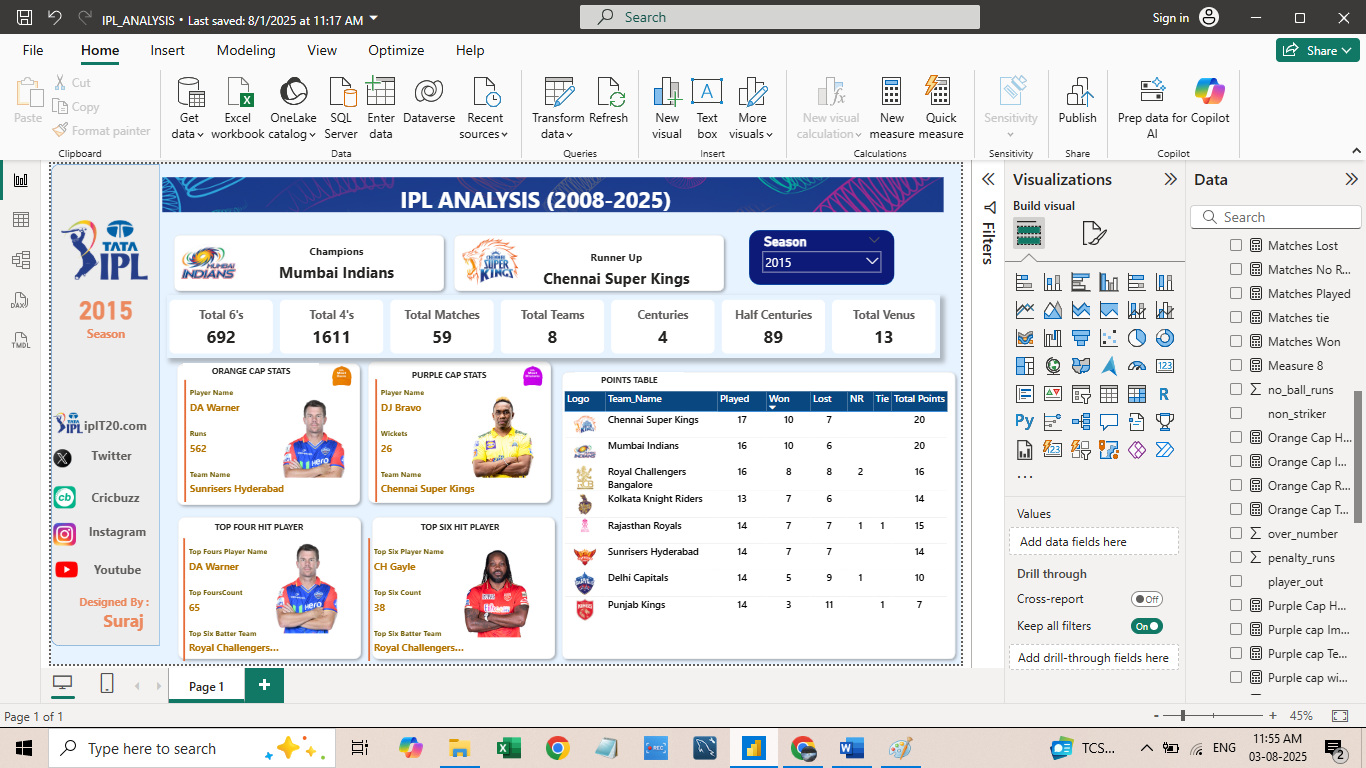

The page's visual inventory and layout, read from the dashboard file:
{"tool":"powerbi","page":{"name":"Page 1","canvas":[2000,1100],"ordinal":0},"visuals":[{"type":"shape","box":[1535.4,144.4,320.2,120.7],"z":0},{"type":"shape","box":[1112.9,446.2,887.1,653.5],"z":1000},{"type":"shape","box":[266.2,426.8,424.6,334.4],"z":2000},{"type":"shape","box":[686.4,422.4,424.6,334.4],"z":3000},{"type":"shape","box":[875.6,145.2,616,145.2],"z":4000},{"type":"shape","box":[259.6,145.2,616,145.2],"z":5000},{"type":"image","box":[239.8,22,1729.2,90.2],"z":6000},{"type":"shape","box":[0,0,238.8,1060.4],"z":7000},{"type":"textbox","box":[741.4,39.6,651.2,88],"z":8000},{"type":"slicer","fields":{"Values":["ipl_matches_data.season"]},"box":[1556.4,147,280.8,118.1],"z":9000},{"type":"cardVisual","fields":{"Data":["ipl_matches_data.Season Winner"]},"box":[380.6,158.4,495,118.8],"z":10000},{"type":"cardVisual","fields":{"Data":["ipl_matches_data.Season Winner Logo"]},"box":[259.6,127.6,160.6,154],"z":11000},{"type":"cardVisual","fields":{"Data":["ipl_matches_data.Runner Up"]},"box":[996.6,171.6,495,118.8],"z":12000},{"type":"cardVisual","fields":{"Data":["ball_by_ball_data.Runnerup Logo"]},"box":[875.6,127.6,158.4,145.2],"z":13000},{"type":"cardVisual","fields":{"Data":["ball_by_ball_data.Total 6's","ball_by_ball_data.Total 4's","ball_by_ball_data.Total Matches","ball_by_ball_data.Total Teams","ball_by_ball_data.Centuries","ball_by_ball_data.Half Centuries","ball_by_ball_data.Total Venus"]},"box":[254.6,288.7,1700.8,139.1],"z":14000},{"type":"cardVisual","fields":{"Data":["ball_by_ball_data.Orange Cap Holder","ball_by_ball_data.Orange Cap Runs","ball_by_ball_data.Orange Cap Team Name"]},"box":[288.2,468.6,341,281.6],"z":15000},{"type":"textbox","box":[290.4,437.8,299.2,37.4],"z":16000},{"type":"cardVisual","fields":{"Data":["ball_by_ball_data.Orange Cap Image"]},"box":[457.6,495,250.8,200.2],"z":17000},{"type":"image","box":[589.6,437.8,101.2,57.2],"z":18000},{"type":"shape","box":[268.4,765.6,424.6,334.4],"z":19000},{"type":"shape","box":[695.2,765.6,424.6,334.4],"z":20000},{"type":"cardVisual","fields":{"Data":["ball_by_ball_data.Purple Cap Holder","ball_by_ball_data.Purple cap wicket","ball_by_ball_data.Purple cap Team"]},"box":[708.4,468.6,341,281.6],"z":21000},{"type":"textbox","box":[726,446.6,299.2,37.4],"z":22000},{"type":"cardVisual","fields":{"Data":["ball_by_ball_data.Purple cap Image"]},"box":[871.2,484,250.8,211.2],"z":23000},{"type":"image","box":[1009.8,437.8,101.2,57.2],"z":24000},{"type":"cardVisual","fields":{"Data":["ball_by_ball_data.Top Fours Player Name","ball_by_ball_data.Top FoursCount","ball_by_ball_data.Top Fours Batter Team"]},"box":[286,818.4,244.2,281.6],"z":25000},{"type":"textbox","box":[308,781,299.2,37.4],"z":26000},{"type":"cardVisual","fields":{"Data":["ball_by_ball_data.Top Fours Player Image"]},"box":[442.2,809.6,250.8,246.4],"z":27000},{"type":"cardVisual","fields":{"Data":["ball_by_ball_data.Top Six Player Name","ball_by_ball_data.Top Six Count","ball_by_ball_data.Top Six Batter Team"]},"box":[693,818.4,244.2,281.6],"z":28000},{"type":"textbox","box":[750.2,781,299.2,37.4],"z":29000},{"type":"cardVisual","fields":{"Data":["ball_by_ball_data.Top Six Player Image"]},"box":[860.2,818.4,250.8,246.4],"z":30000},{"type":"tableEx","fields":{"Values":["teams_data.image_url","teams_data.team_name","ball_by_ball_data.Matches Played","ball_by_ball_data.Matches Won","ball_by_ball_data.Matches Lost","ball_by_ball_data.Matches No Result","ball_by_ball_data.Matches tie","ball_by_ball_data.Total Points"]},"box":[1123.4,496.1,876.6,593.2],"z":31000},{"type":"textbox","box":[1152.2,456.7,238.8,39.4],"z":32000},{"type":"image","box":[0,519.7,75,100],"z":33000},{"type":"card","fields":{"Values":["ball_by_ball_data.Season"]},"box":[47.2,265.1,149.6,136.5],"z":34000},{"type":"actionButton","box":[47.2,530.2,191.6,89.2],"z":35000},{"type":"image","box":[18.4,39.4,200,299.2],"z":36000},{"type":"image","box":[0,608.9,50,76.1],"z":37000},{"type":"actionButton","box":[36.7,595.8,191.6,89.2],"z":38000},{"type":"image","box":[0,695.5,60,75],"z":39000},{"type":"actionButton","box":[47.2,687.7,191.6,89.2],"z":40000},{"type":"image","box":[0,776.9,60.4,76.1],"z":41000},{"type":"actionButton","box":[49.9,763.8,191.6,89.2],"z":42000},{"type":"image","box":[5.2,853,60.4,76.1],"z":43000},{"type":"actionButton","box":[49.9,847.8,191.6,89.2],"z":44000},{"type":"textbox","box":[57.7,942.3,168,126],"z":45000}]}

Visuals, with their boxes on the page's 2000x1100 design canvas (x1, y1, x2, y2). These are canvas units, not pixel positions in the 1366x768 screenshot, which may show the page scaled, cropped or inside an application window:
shape: crop(1535, 144, 1856, 265)
shape: crop(1113, 446, 2000, 1100)
shape: crop(266, 427, 691, 761)
shape: crop(686, 422, 1111, 757)
shape: crop(876, 145, 1492, 290)
shape: crop(260, 145, 876, 290)
image: crop(240, 22, 1969, 112)
shape: crop(0, 0, 239, 1060)
textbox: crop(741, 40, 1393, 128)
slicer - ipl_matches_data.season: crop(1556, 147, 1837, 265)
cardVisual - ipl_matches_data.Season Winner: crop(381, 158, 876, 277)
cardVisual - ipl_matches_data.Season Winner Logo: crop(260, 128, 420, 282)
cardVisual - ipl_matches_data.Runner Up: crop(997, 172, 1492, 290)
cardVisual - ball_by_ball_data.Runnerup Logo: crop(876, 128, 1034, 273)
cardVisual - ball_by_ball_data.Total 6's x ball_by_ball_data.Total 4's: crop(255, 289, 1955, 428)
cardVisual - ball_by_ball_data.Orange Cap Holder x ball_by_ball_data.Orange Cap Runs: crop(288, 469, 629, 750)
textbox: crop(290, 438, 590, 475)
cardVisual - ball_by_ball_data.Orange Cap Image: crop(458, 495, 708, 695)
image: crop(590, 438, 691, 495)
shape: crop(268, 766, 693, 1100)
shape: crop(695, 766, 1120, 1100)
cardVisual - ball_by_ball_data.Purple Cap Holder x ball_by_ball_data.Purple cap wicket: crop(708, 469, 1049, 750)
textbox: crop(726, 447, 1025, 484)
cardVisual - ball_by_ball_data.Purple cap Image: crop(871, 484, 1122, 695)
image: crop(1010, 438, 1111, 495)
cardVisual - ball_by_ball_data.Top Fours Player Name x ball_by_ball_data.Top FoursCount: crop(286, 818, 530, 1100)
textbox: crop(308, 781, 607, 818)
cardVisual - ball_by_ball_data.Top Fours Player Image: crop(442, 810, 693, 1056)
cardVisual - ball_by_ball_data.Top Six Player Name x ball_by_ball_data.Top Six Count: crop(693, 818, 937, 1100)
textbox: crop(750, 781, 1049, 818)
cardVisual - ball_by_ball_data.Top Six Player Image: crop(860, 818, 1111, 1065)
tableEx - teams_data.image_url x teams_data.team_name: crop(1123, 496, 2000, 1089)
textbox: crop(1152, 457, 1391, 496)
image: crop(0, 520, 75, 620)
card - ball_by_ball_data.Season: crop(47, 265, 197, 402)
actionButton: crop(47, 530, 239, 619)
image: crop(18, 39, 218, 339)
image: crop(0, 609, 50, 685)
actionButton: crop(37, 596, 228, 685)
image: crop(0, 696, 60, 770)
actionButton: crop(47, 688, 239, 777)
image: crop(0, 777, 60, 853)
actionButton: crop(50, 764, 242, 853)
image: crop(5, 853, 66, 929)
actionButton: crop(50, 848, 242, 937)
textbox: crop(58, 942, 226, 1068)
